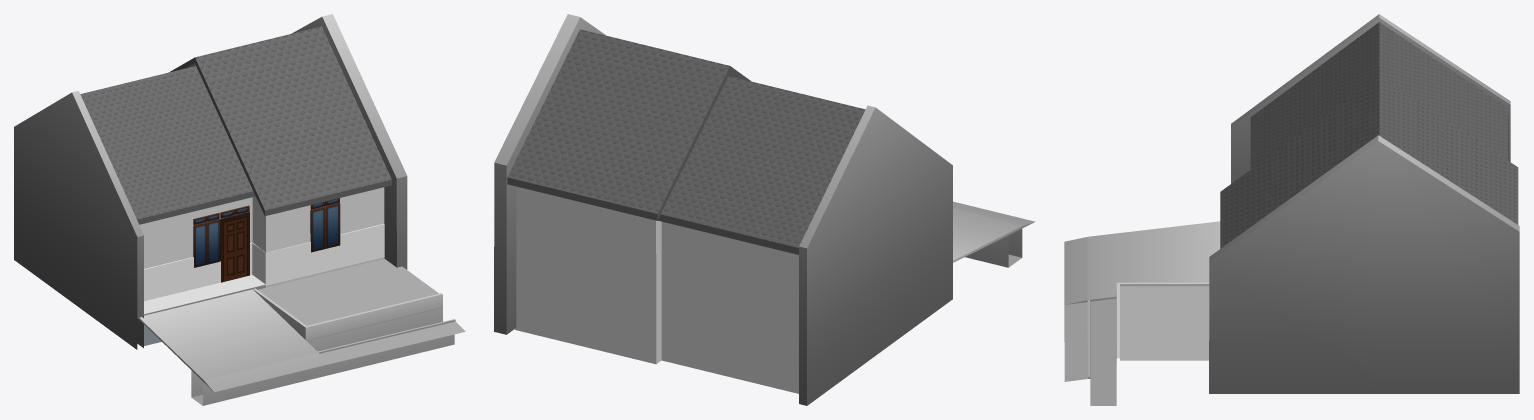
The model's file is NPCRumah 2.fbx.
3 renders of one model, left to right at view 1: azimuth 30°, elevation 25°; view 2: azimuth 150°, elevation 25°; view 3: azimuth 270°, elevation 25°, orthographic. The views are drawn at different scales.
Parts seen in each view (by area): view 1: RoadNPC2_LOD0, RoofNPC2_LOD0, Body1NPC2_LOD0, Body2NPC2_LOD0, DoorNPC2_LOD0; view 2: RoofNPC2_LOD0, RoadNPC2_LOD0, Body1NPC2_LOD0; view 3: RoadNPC2_LOD0, RoofNPC2_LOD0.
Boxes of the visible parts, x1,y1,x2,y2 form: RoadNPC2_LOD0: (14, 14, 465, 405); RoofNPC2_LOD0: (80, 26, 391, 224); Body1NPC2_LOD0: (139, 65, 384, 345); Body2NPC2_LOD0: (144, 223, 384, 301); DoorNPC2_LOD0: (193, 198, 340, 282); RoofNPC2_LOD0: (507, 29, 865, 254); RoadNPC2_LOD0: (494, 14, 1035, 405); Body1NPC2_LOD0: (515, 186, 798, 393); RoadNPC2_LOD0: (1064, 14, 1519, 405); RoofNPC2_LOD0: (1220, 22, 1518, 248).
Size of what is drawn, in the model's own units: 1837 by 1592 by 2452.
